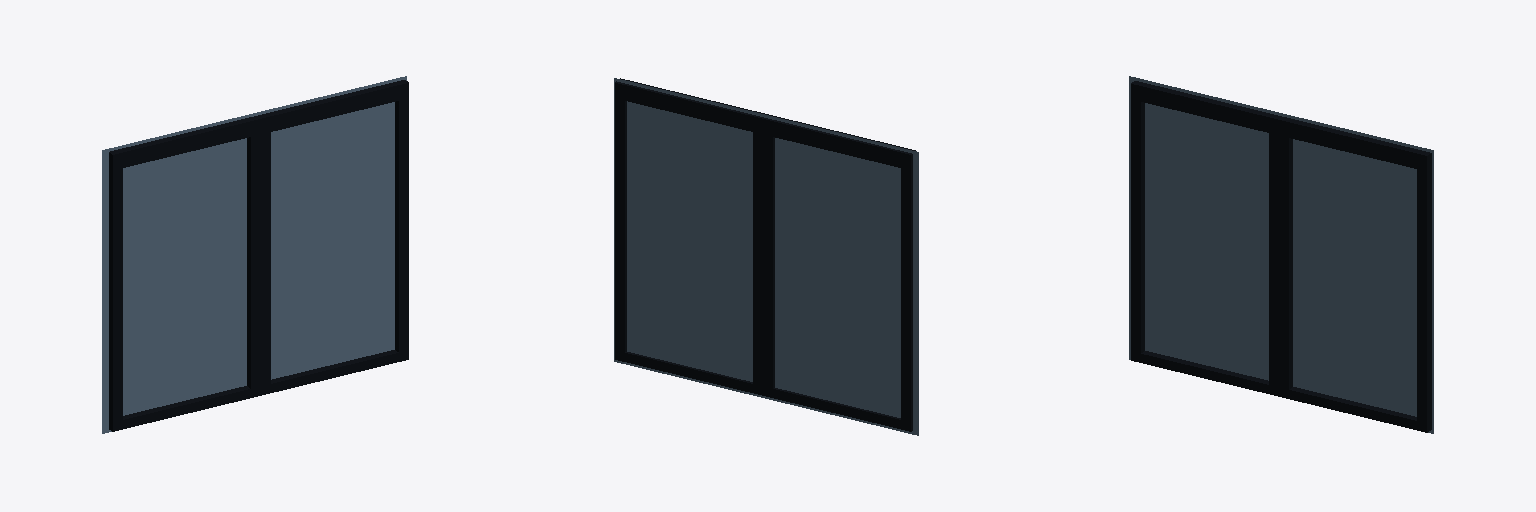
The model's file is chuang6.obj.
3 views of the same model, side by side, from view 1: azimuth 30°, elevation 25°; view 2: azimuth 150°, elevation 25°; view 3: azimuth 330°, elevation 25° (orthographic).
Visible parts, largest first — view 1: Rectangle015, Rectangle014; view 2: Rectangle015, Rectangle014; view 3: Rectangle015, Rectangle014.
Boxes of the visible parts, x1=… form: Rectangle015: x1=102, y1=76, x2=406, y2=433; Rectangle014: x1=109, y1=80, x2=408, y2=431; Rectangle015: x1=614, y1=78, x2=918, y2=435; Rectangle014: x1=615, y1=78, x2=915, y2=431; Rectangle015: x1=1129, y1=76, x2=1433, y2=433; Rectangle014: x1=1131, y1=81, x2=1431, y2=432.
Size of the model in its own units: 18 by 16.04 by 0.6.